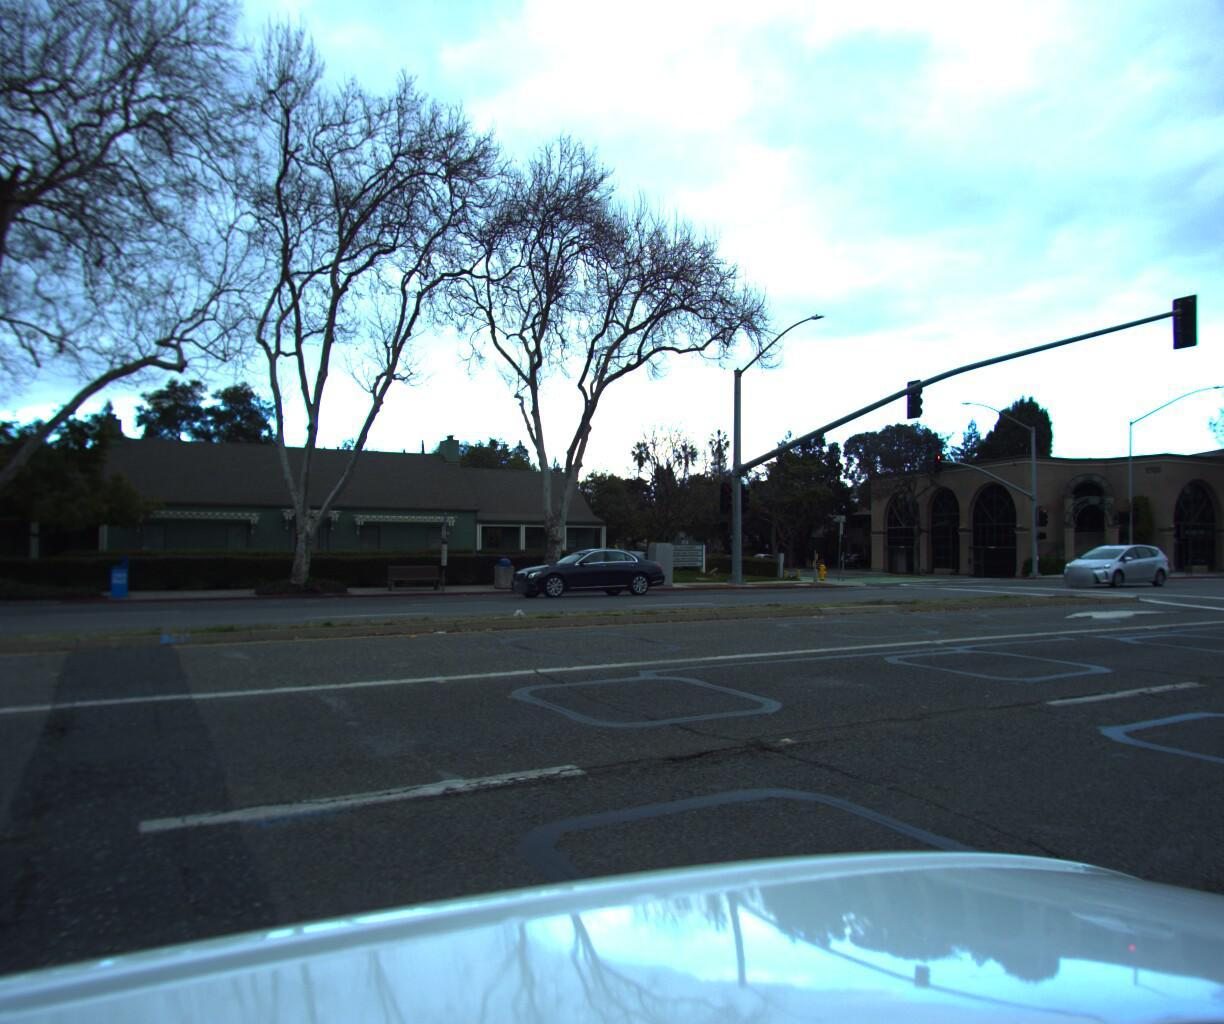car: (500, 540, 669, 597), (1054, 536, 1172, 583), (836, 544, 877, 565)
